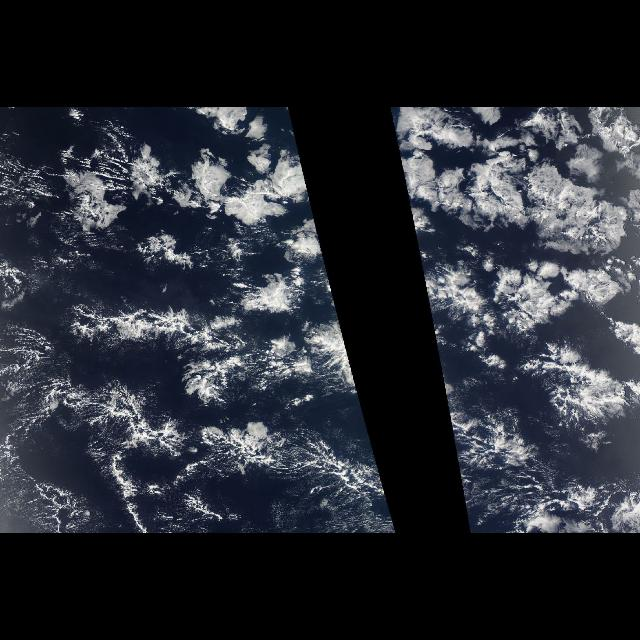Fish: (49, 408, 380, 516)
Flower: (35, 122, 392, 516), (393, 110, 639, 516)
